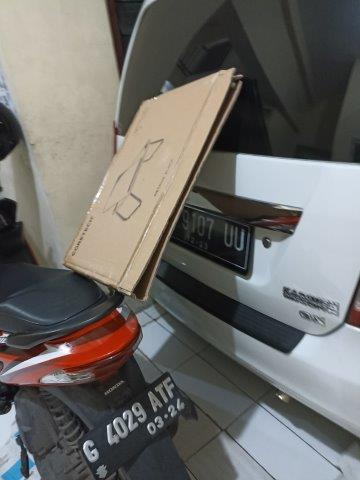kardus: (65, 69, 242, 297)
